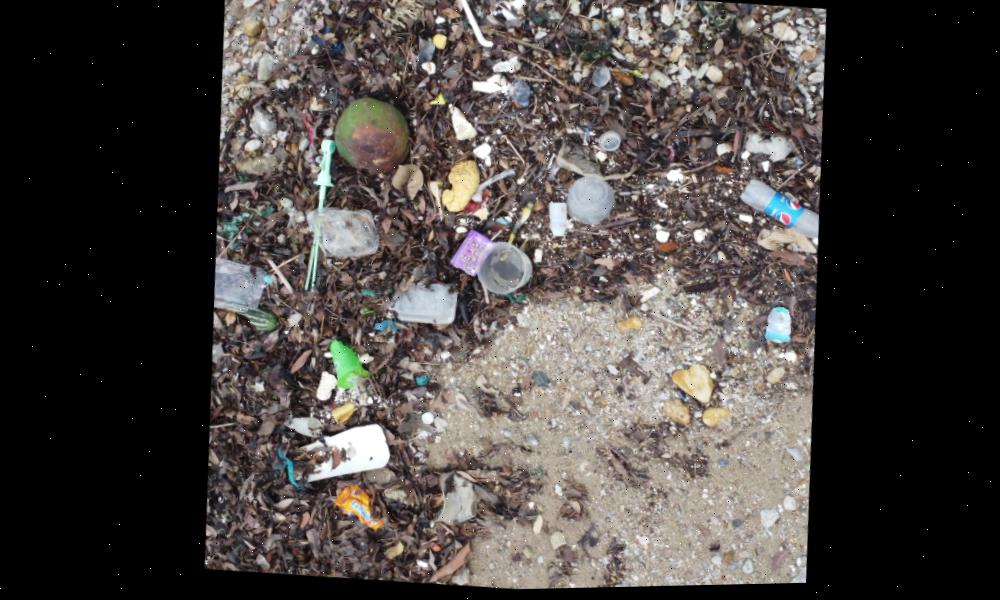carton: (448, 236, 493, 275)
plastic bag: (300, 204, 382, 260)
plastic bottle: (733, 183, 820, 237)
